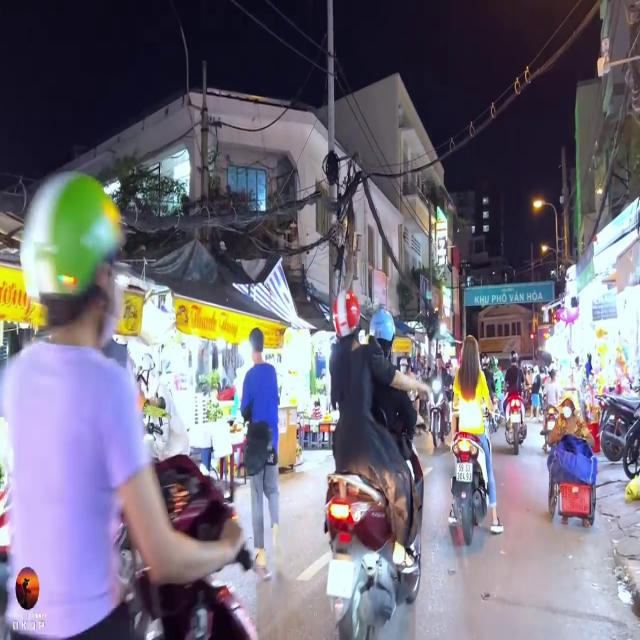bien_trang: (454, 460, 473, 485)
